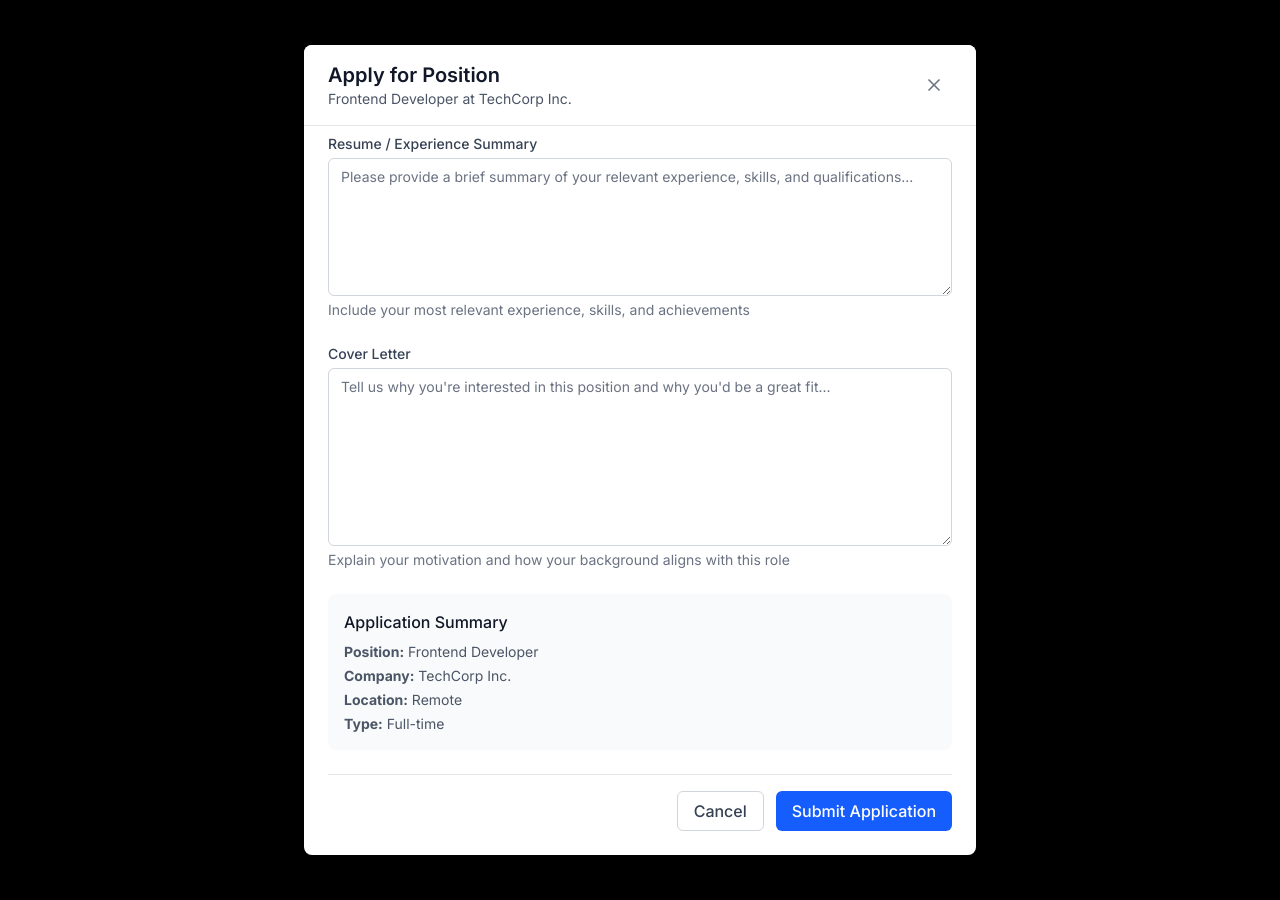
Test: ApplicationForm › shows validation errors for empty required fields
(page scrolled)
Click the button "Submit Application" at coordinates (864, 811), box [776,791,952,831]
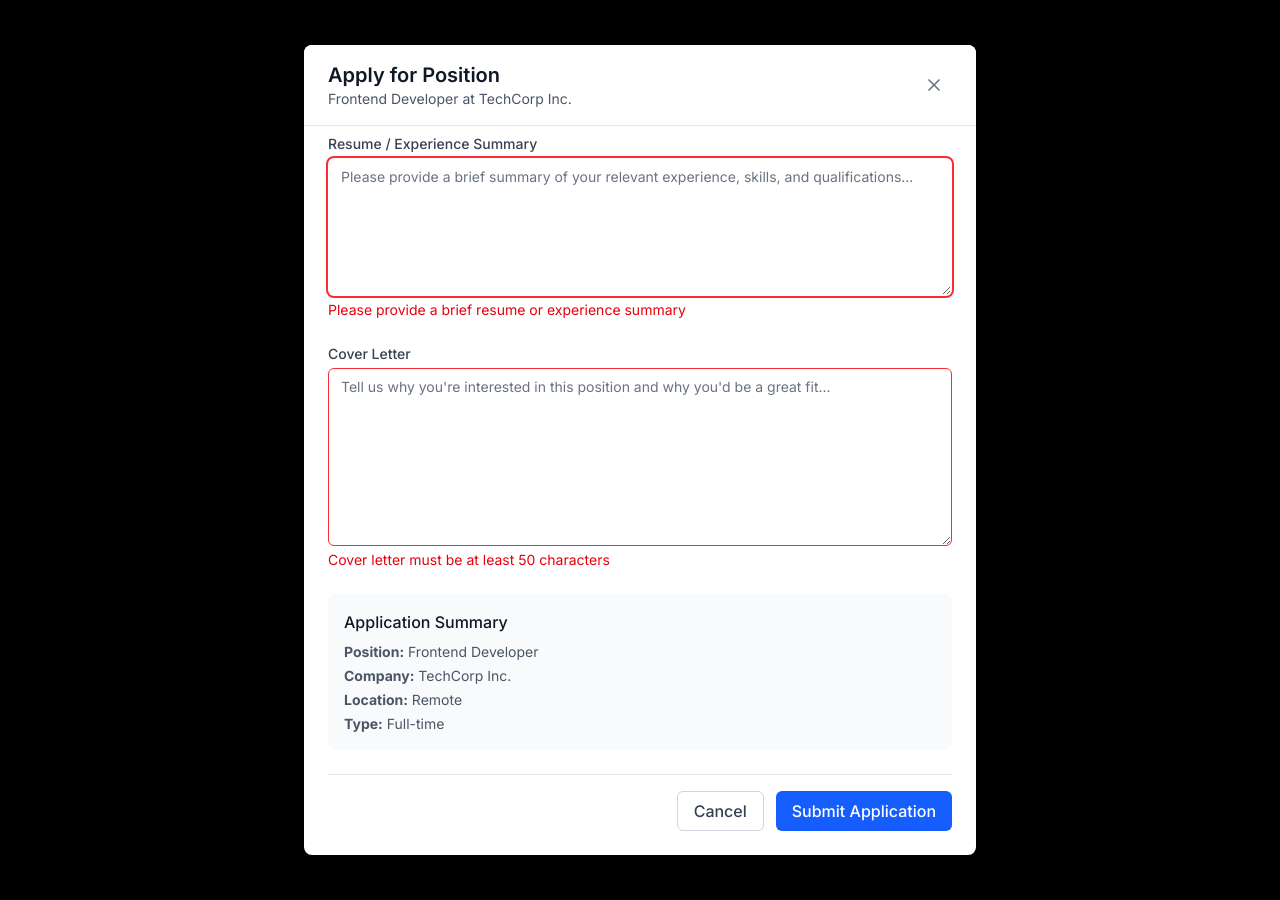
Check: the text "Please provide a brief resume or experience summary" is shown, box [328,301,686,318]
Check: the text "Cover letter must be at least 50 characters" is shown, box [328,551,610,568]
